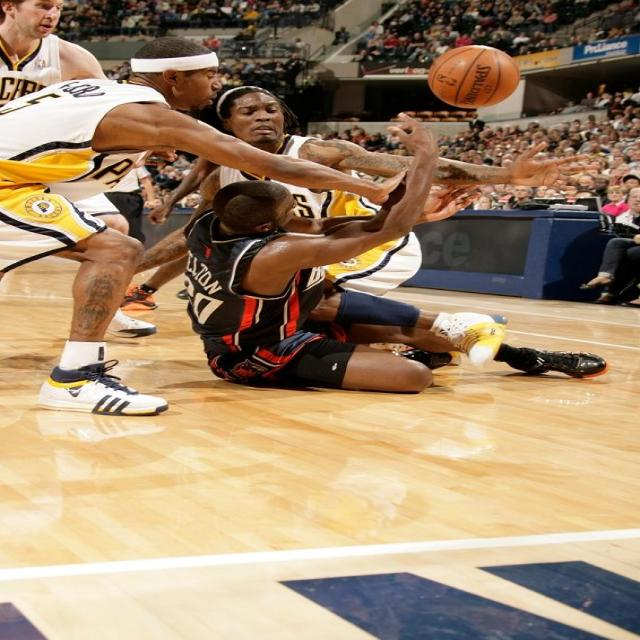10-: (2, 0, 639, 420)
down: (193, 108, 621, 400)
